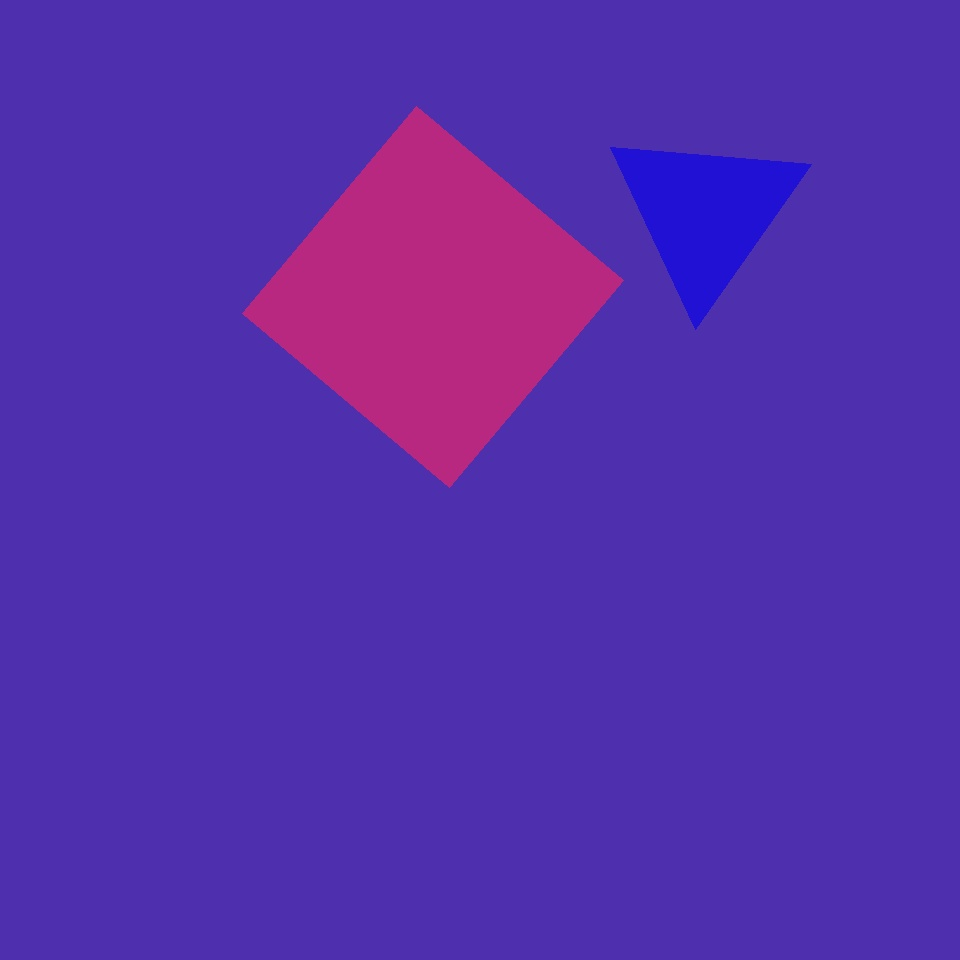circle: (606, 123, 807, 305)
square: (243, 107, 624, 488)
